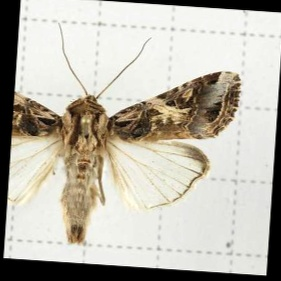Spodoptera litura: (12, 26, 237, 246)
